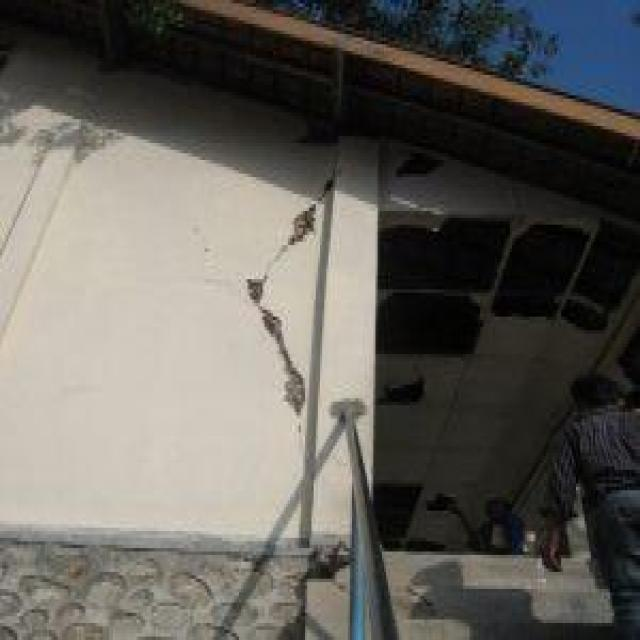damage: (217, 130, 340, 452)
